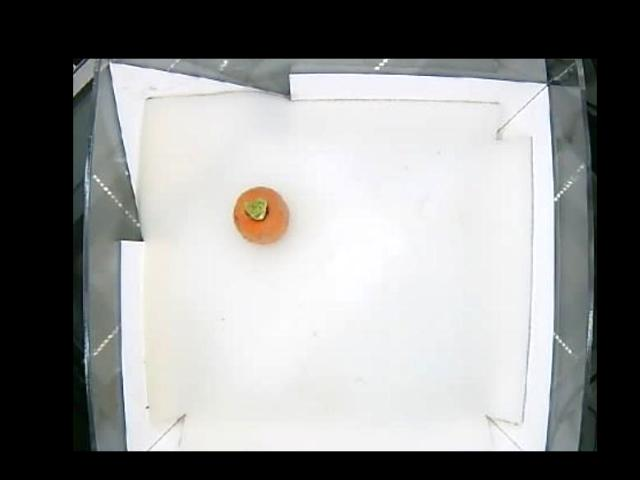Carrot: (234, 185, 290, 245)
